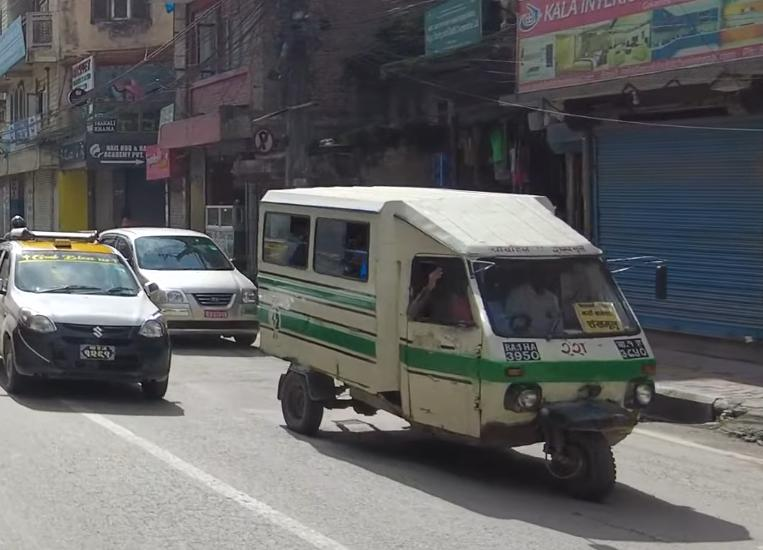car: (101, 219, 261, 344)
taxi: (0, 227, 174, 407)
tempo: (255, 177, 656, 510)
